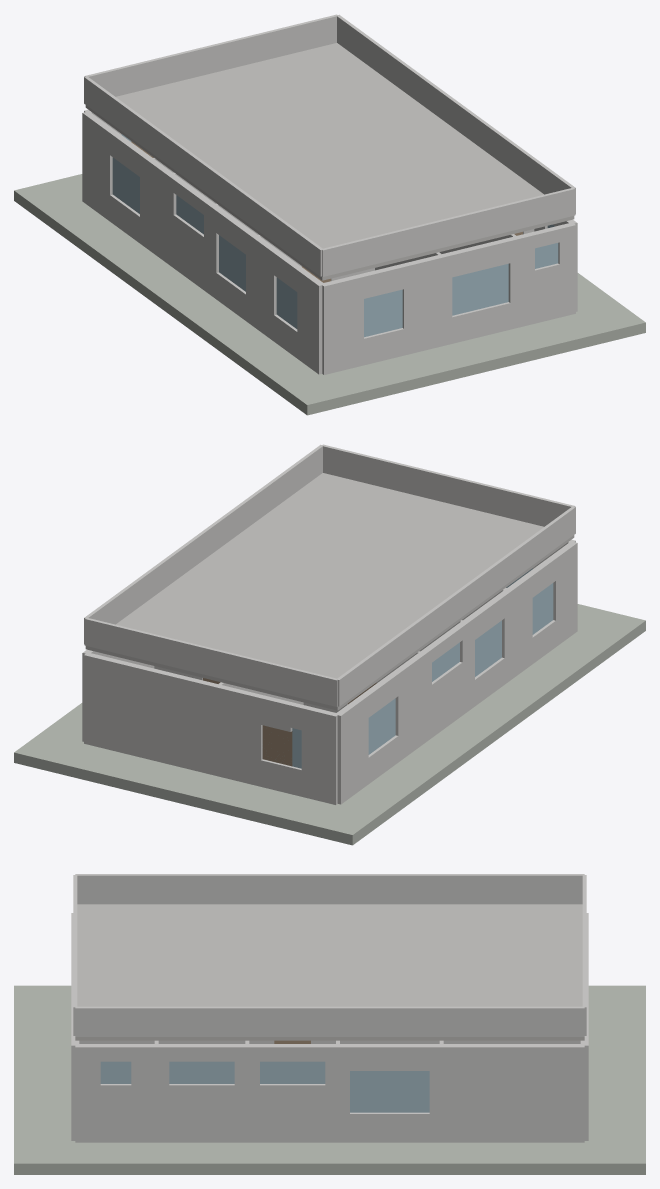
The picture shows the model from 3 angles, top to bottom: view 1: azimuth 30°, elevation 25°; view 2: azimuth 150°, elevation 25°; view 3: azimuth 270°, elevation 25°; orthographic projection. The views are drawn at different scales.
Parts seen in each view (by area): view 1: roof_slab, ground, parapet_0, parapet_3, parapet_2, parapet_1, wall_wal_564564dc99_20, wall_wal_564564dc99_24, wall_wal_650c017a80_66, wall_wal_650c017a80_70, wall_wal_64cf463f72_34, glazing_opn_299453ad03 (+26 smaller); view 2: roof_slab, ground, wall_wal_70027cc82e_79, parapet_2, parapet_3, parapet_0, parapet_1, wall_wal_efcce20048_59, wall_wal_efcce20048_65, wall_wal_650c017a80_66, wall_wal_650c017a80_70, wall_wal_64cf463f72_34 (+20 smaller); view 3: roof_slab, ground, parapet_1, parapet_3, wall_wal_7543c1a0f5_78, wall_wal_0bd0daba23_86, wall_wal_21d340a668_94, glazing_opn_952bf61aaf, wall_wal_4a964c7b6a_126, wall_wal_4a964c7b6a_122, wall_wal_a9c4d140da_37, wall_wal_a9c4d140da_38 (+19 smaller).
Boxes of the visible parts, <box> form: roof_slab: <box>85,43,574,280</box>; ground: <box>14,174,645,415</box>; parapet_0: <box>322,187,575,276</box>; parapet_3: <box>84,76,323,276</box>; parapet_2: <box>84,14,337,96</box>; parapet_1: <box>336,14,575,214</box>; wall_wal_564564dc99_20: <box>322,274,363,374</box>; wall_wal_564564dc99_24: <box>401,254,443,355</box>; wall_wal_650c017a80_66: <box>82,111,116,221</box>; wall_wal_650c017a80_70: <box>140,153,172,263</box>; wall_wal_64cf463f72_34: <box>297,268,324,374</box>; glazing_opn_299453ad03: <box>452,263,508,315</box>; roof_slab: <box>85,473,574,710</box>; ground: <box>14,604,645,845</box>; wall_wal_70027cc82e_79: <box>84,652,217,775</box>; parapet_2: <box>84,618,338,706</box>; parapet_3: <box>337,506,575,706</box>; parapet_0: <box>321,444,575,526</box>; parapet_1: <box>84,444,322,644</box>; wall_wal_efcce20048_59: <box>216,685,263,786</box>; wall_wal_efcce20048_65: <box>301,705,339,804</box>; wall_wal_650c017a80_66: <box>335,694,368,804</box>; wall_wal_650c017a80_70: <box>392,652,425,762</box>; wall_wal_64cf463f72_34: <box>550,542,577,646</box>; roof_slab: <box>75,904,584,1040</box>; ground: <box>14,985,645,1174</box>; parapet_1: <box>75,1006,584,1036</box>; parapet_3: <box>75,874,584,904</box>; wall_wal_7543c1a0f5_78: <box>441,1044,584,1142</box>; wall_wal_0bd0daba23_86: <box>169,1084,234,1142</box>; wall_wal_21d340a668_94: <box>260,1084,325,1142</box>; glazing_opn_952bf61aaf: <box>350,1071,429,1112</box>; wall_wal_4a964c7b6a_126: <box>131,1044,156,1142</box>; wall_wal_4a964c7b6a_122: <box>75,1044,100,1142</box>; wall_wal_a9c4d140da_37: <box>350,1112,429,1142</box>; wall_wal_a9c4d140da_38: <box>350,1044,429,1070</box>.
Bounding box in the file's own units: 12 × 4.55 × 18.
